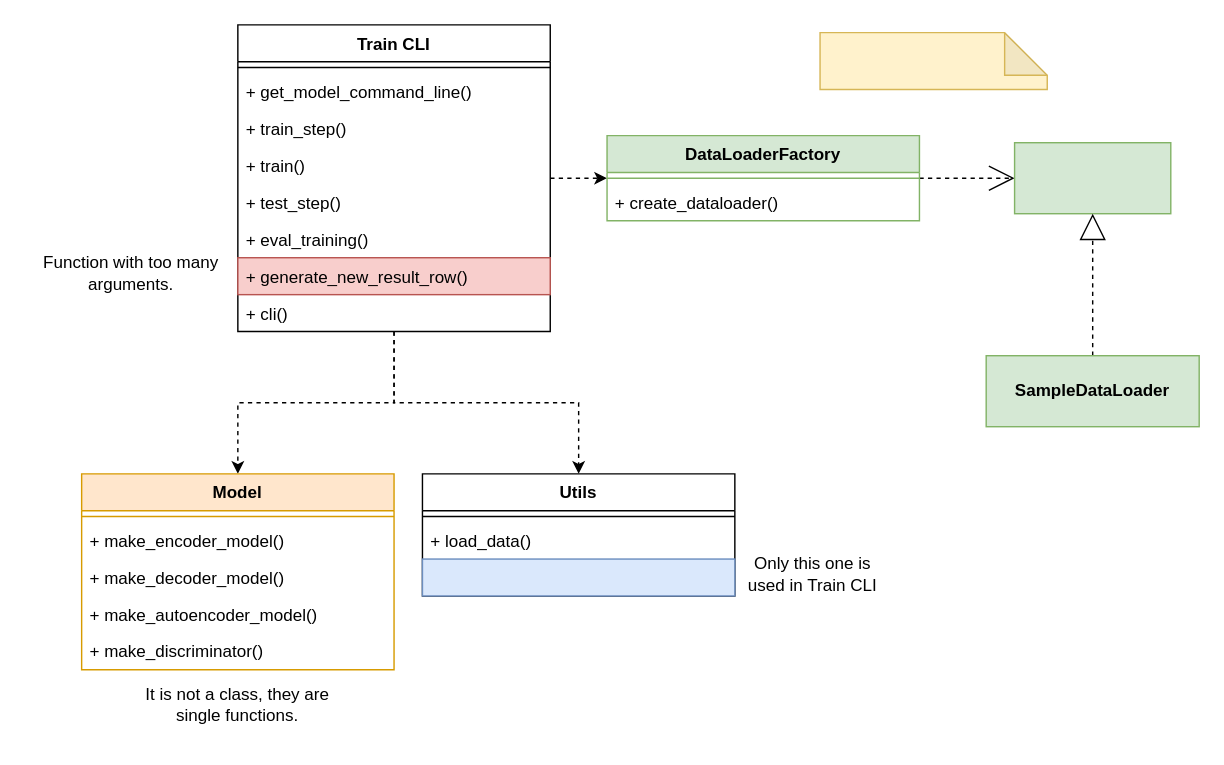
This 1224x765 diagram has some shape labels left out. Each missing label, with the centre of its shape:
"+ load_models()" belongs at (578,577).
"Factory Method" belongs at (933,60).
"«interface» DataLoader" belongs at (1092,177).
